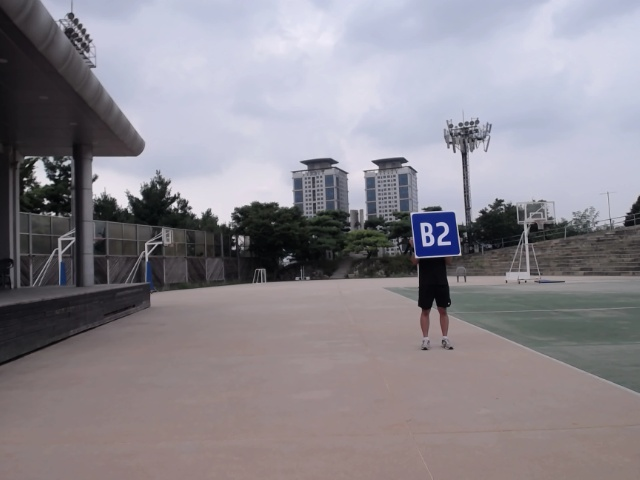delivery_b2: (409, 210, 462, 258)
